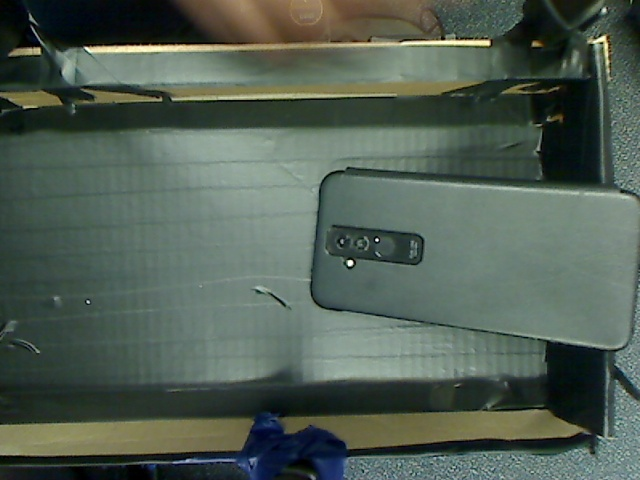phone: (300, 149, 640, 365)
